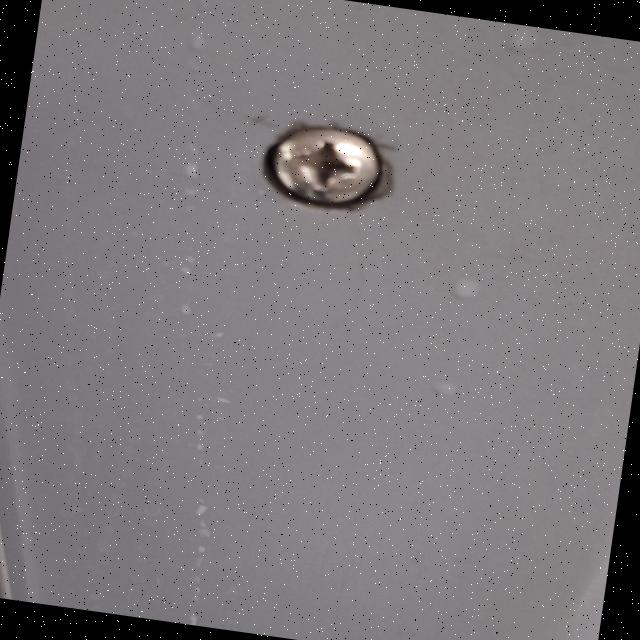Phillips: (254, 112, 414, 228)
